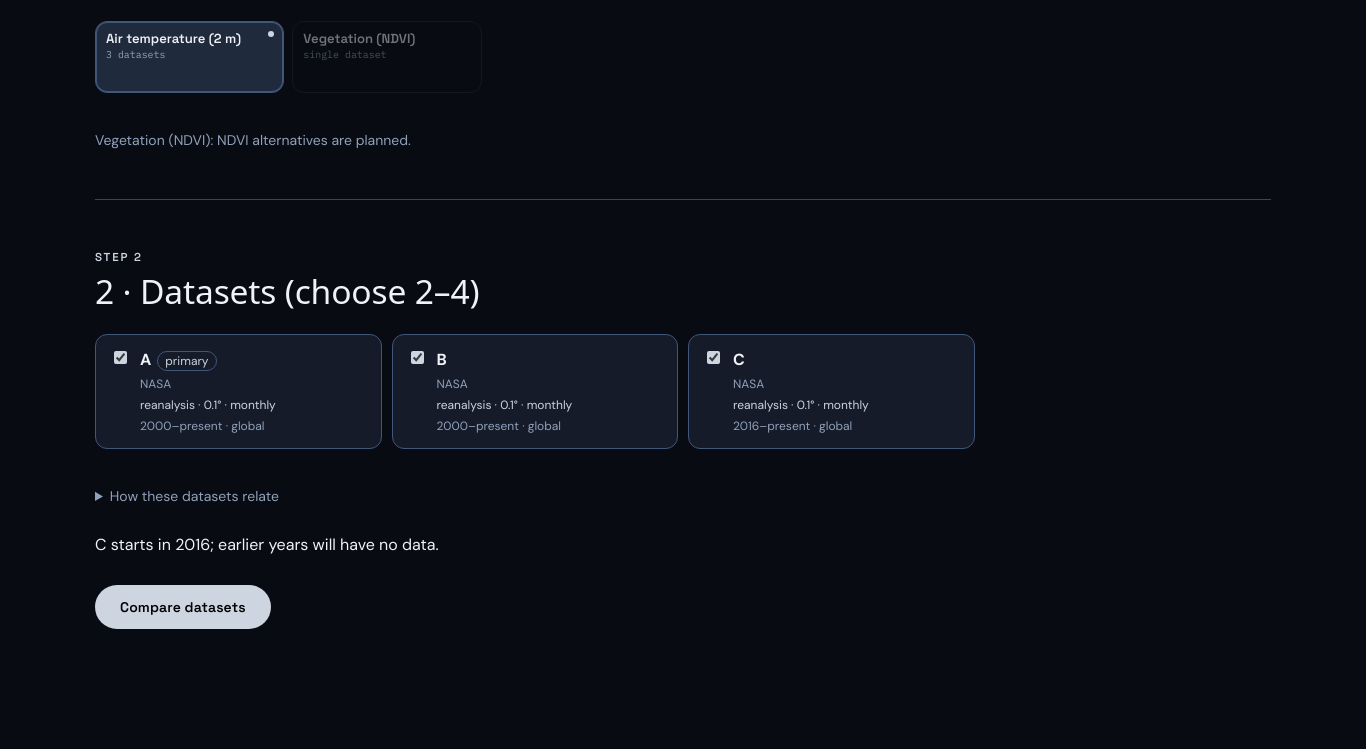
Test: Compare datasets page › explains when no comparison is possible and shows separate charts for different quantities
(page scrolled)
Click the button "Compare datasets". click: (183,607)
box: [95,585,271,629]
(page scrolled)
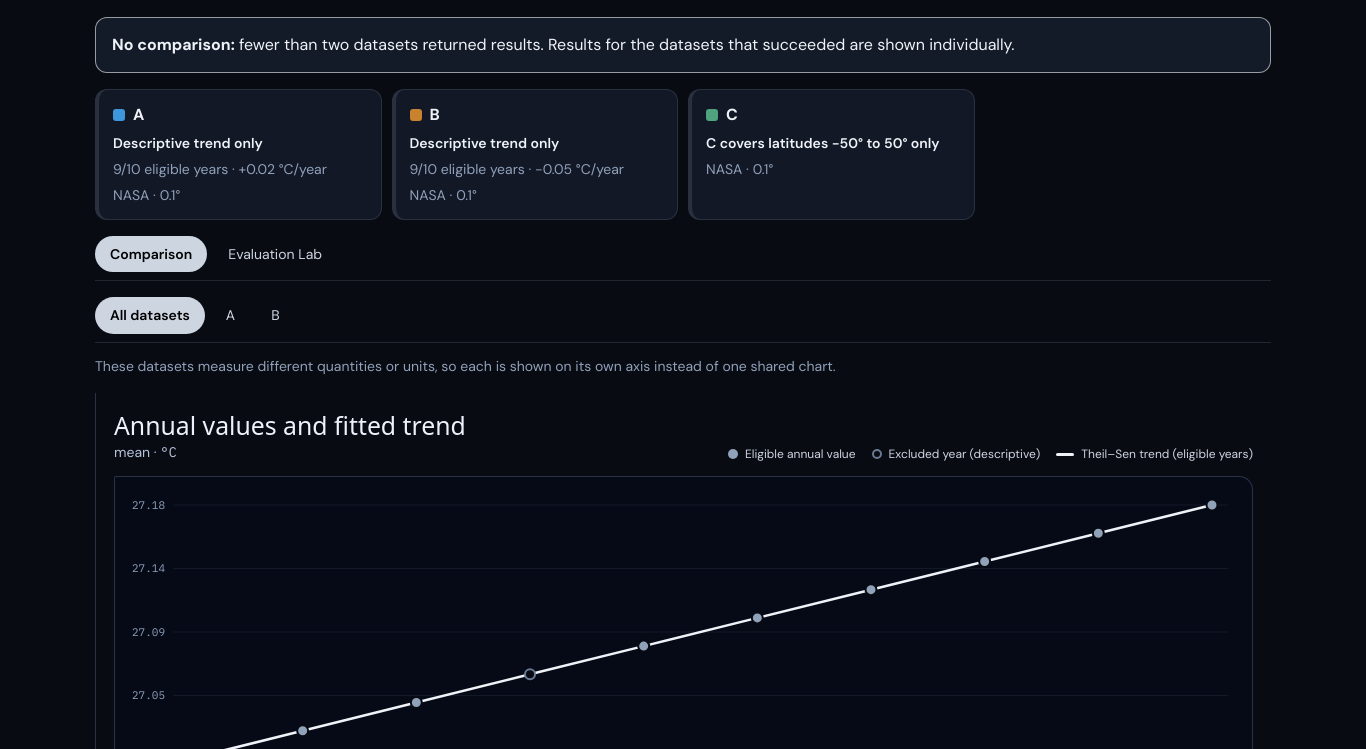
expect the text "fewer than two datasets returned results" is shown: met, box [239,34,541,55]
expect the text "each is shown on its own axis" is shown: met, box [95,357,836,375]
